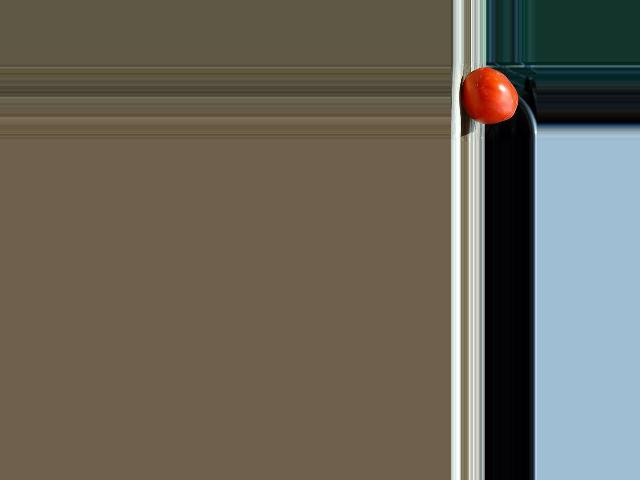tomato: (462, 67, 518, 124)
